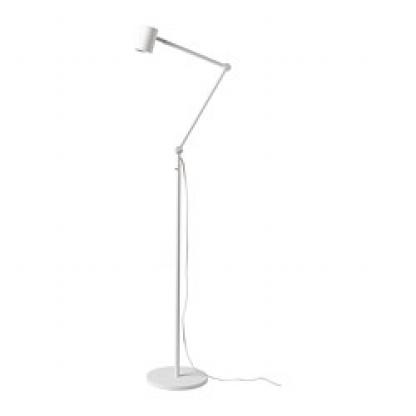Lamp: (128, 15, 231, 401)
